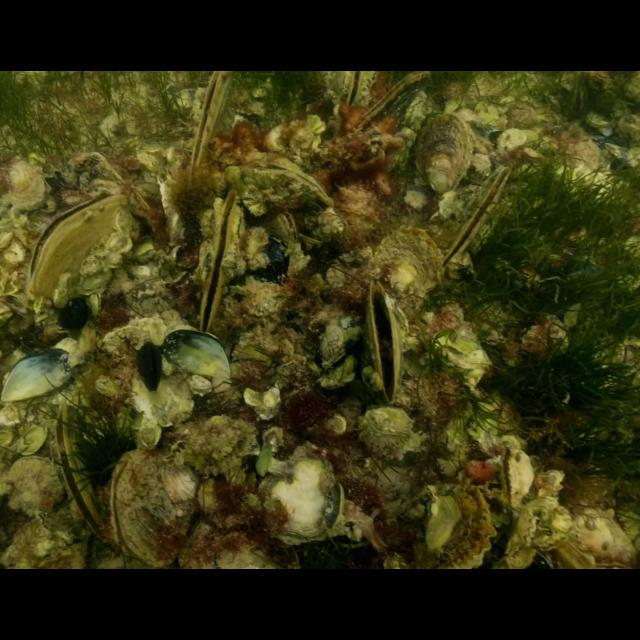Oyster-Closed: (107, 447, 201, 567), (370, 223, 448, 321), (411, 110, 473, 196), (351, 72, 432, 132)
Oyster-Open: (24, 187, 136, 301), (426, 482, 534, 570), (53, 401, 111, 542), (438, 164, 514, 270), (239, 148, 333, 222), (194, 188, 240, 332), (359, 282, 405, 406), (185, 71, 237, 167), (497, 446, 535, 506), (261, 210, 301, 247), (346, 72, 364, 102)
